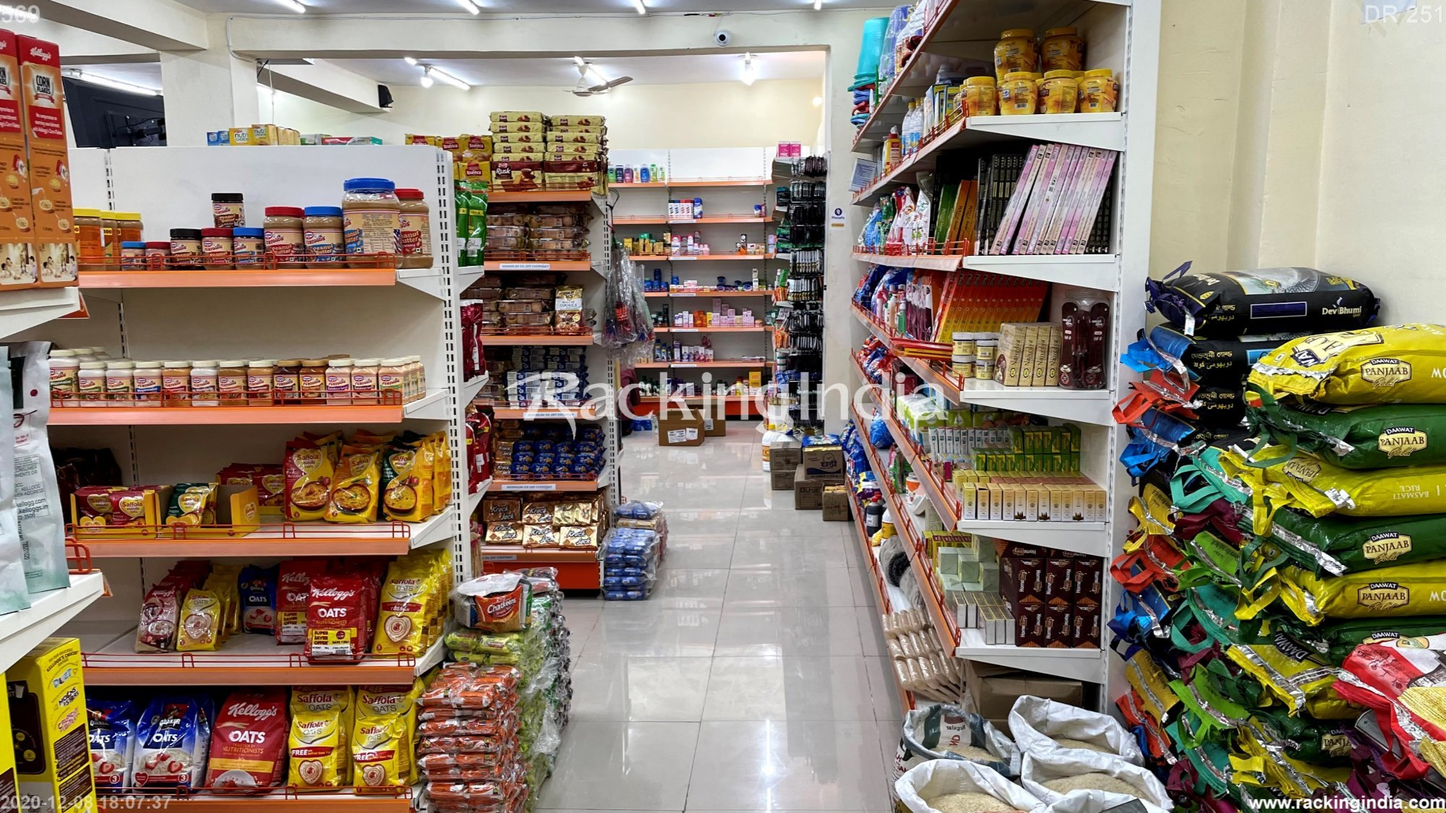saffola: (473, 491, 609, 552)
